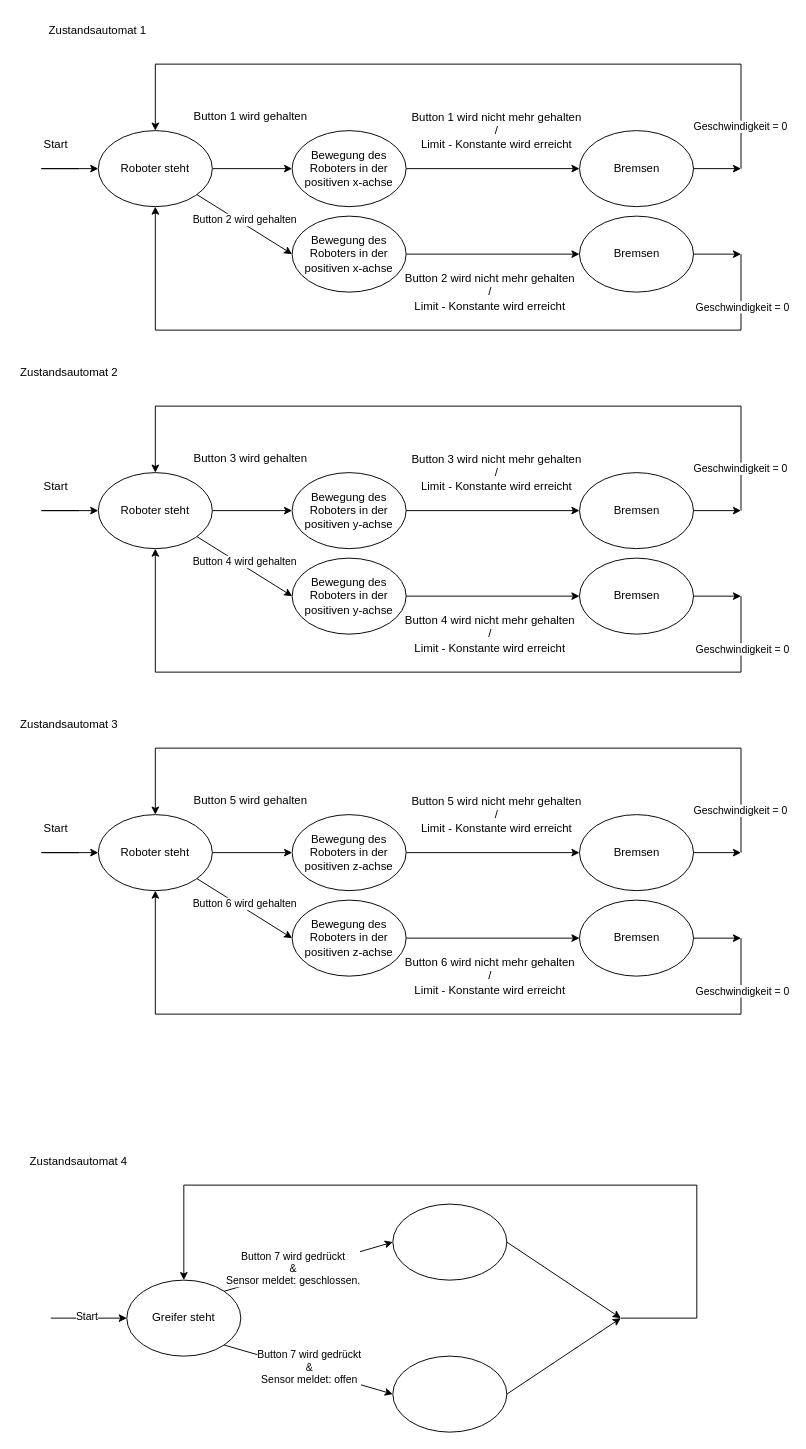
This 806x1449 diagram has some shape labels left out. The centre of each missing label's shape, as x and y in pixels:
"Greifer ist geschlossen" goes at (x=449, y=1393).
"Greifer ist offen" goes at (x=449, y=1241).
